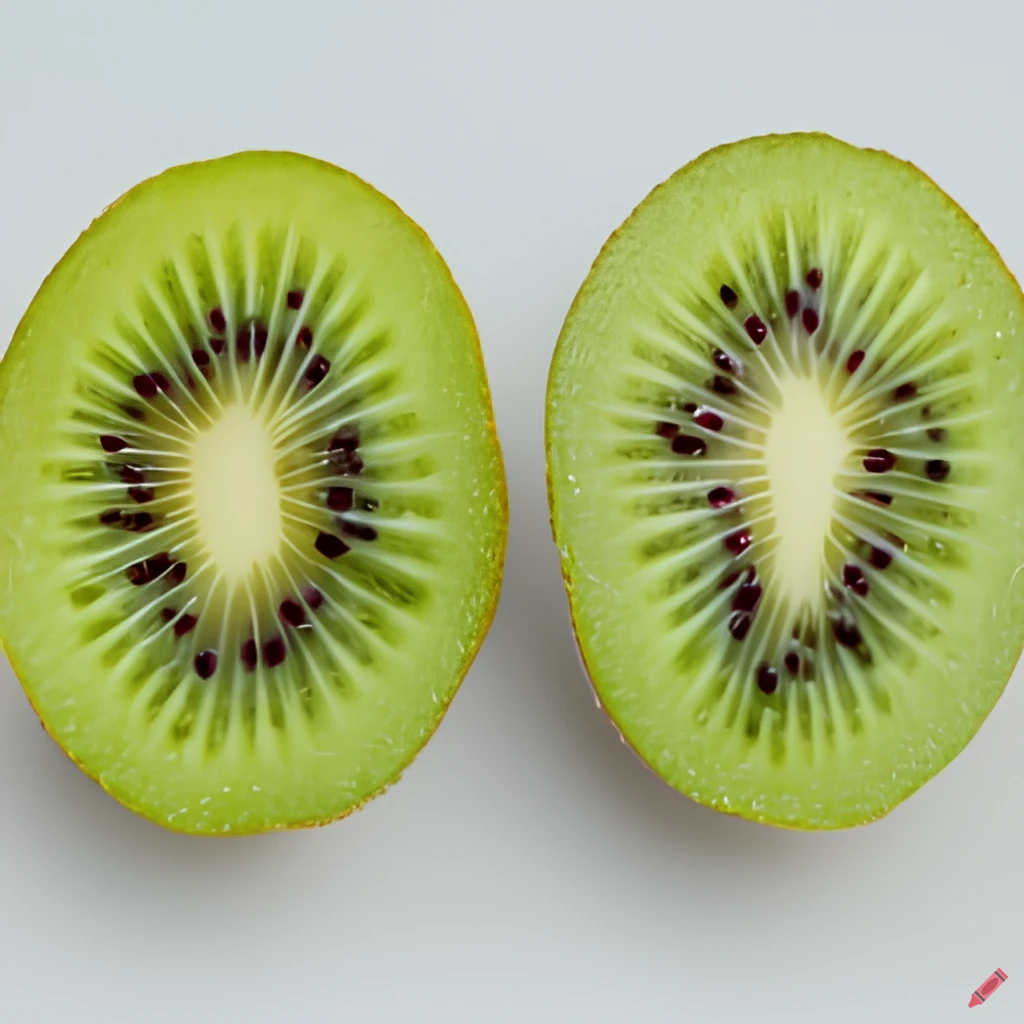Kiwi: (0, 125, 518, 818), (526, 99, 1006, 846)
